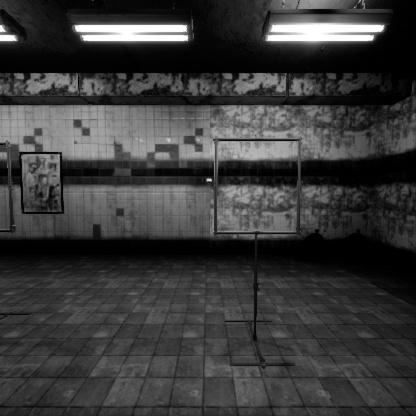gate: (214, 180, 309, 278)
